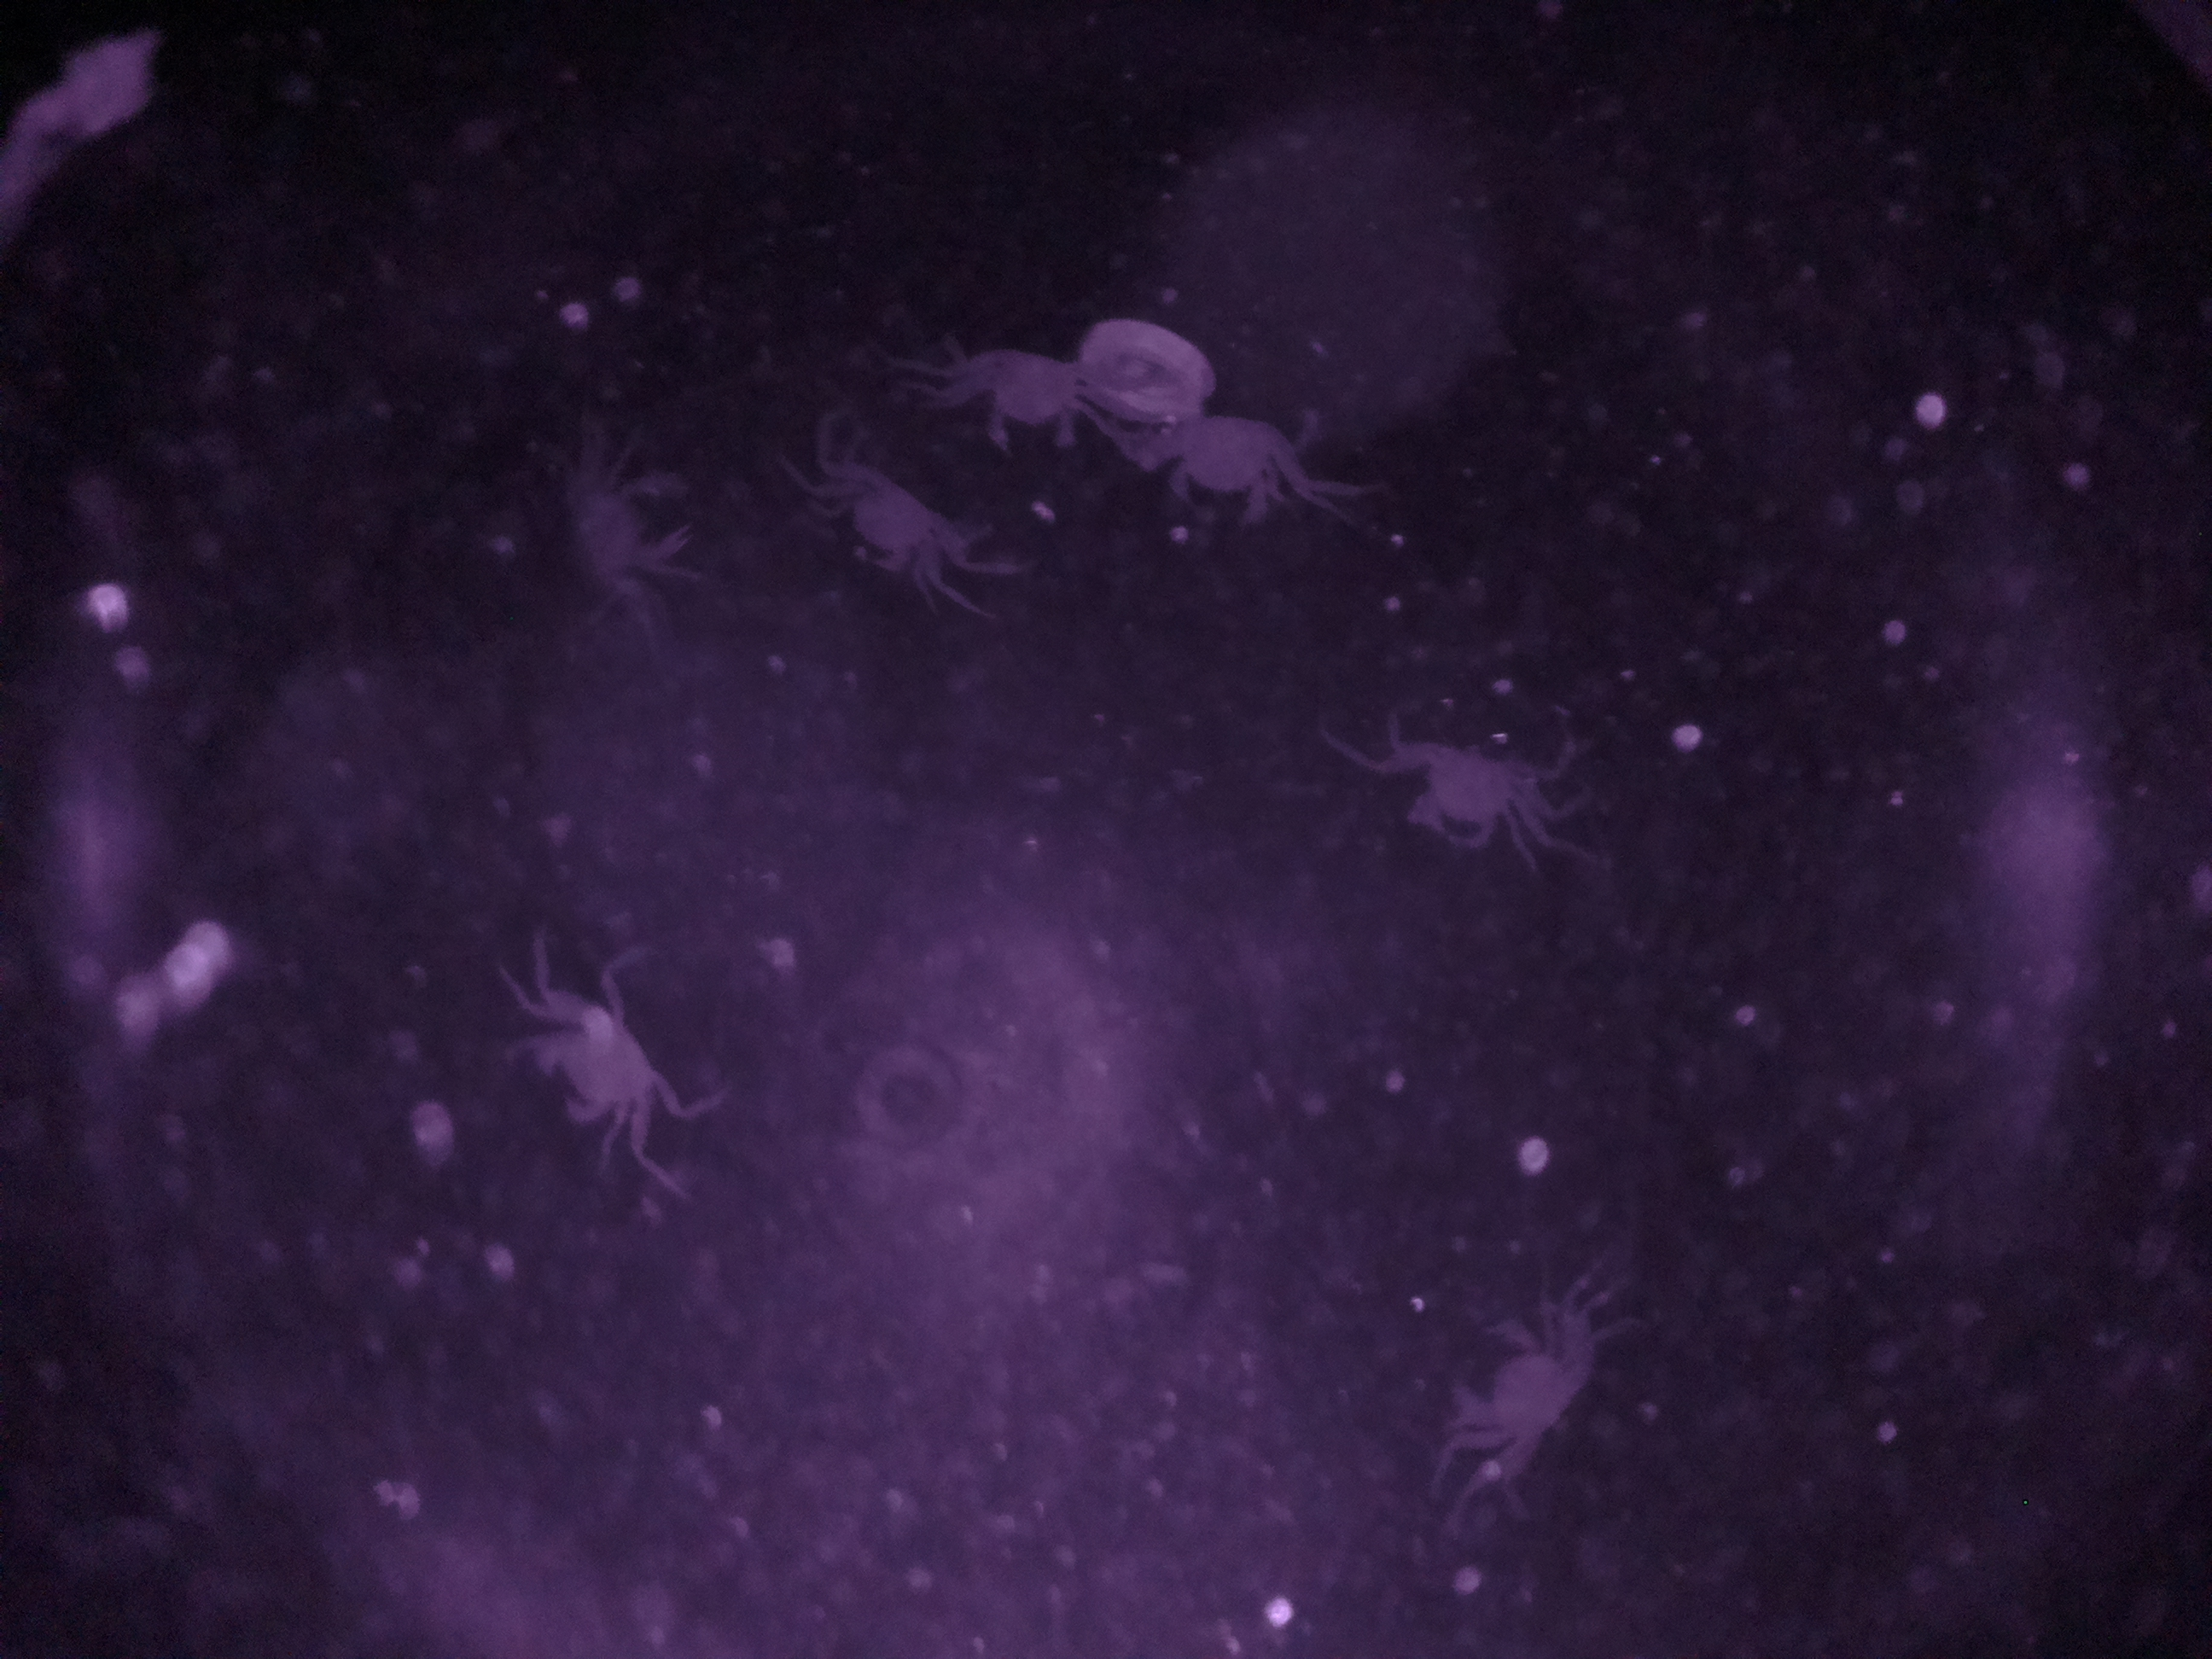Crab: (512, 965, 702, 1176), (792, 427, 993, 615), (1425, 1279, 1594, 1502), (1378, 704, 1547, 866), (1115, 399, 1320, 530)
